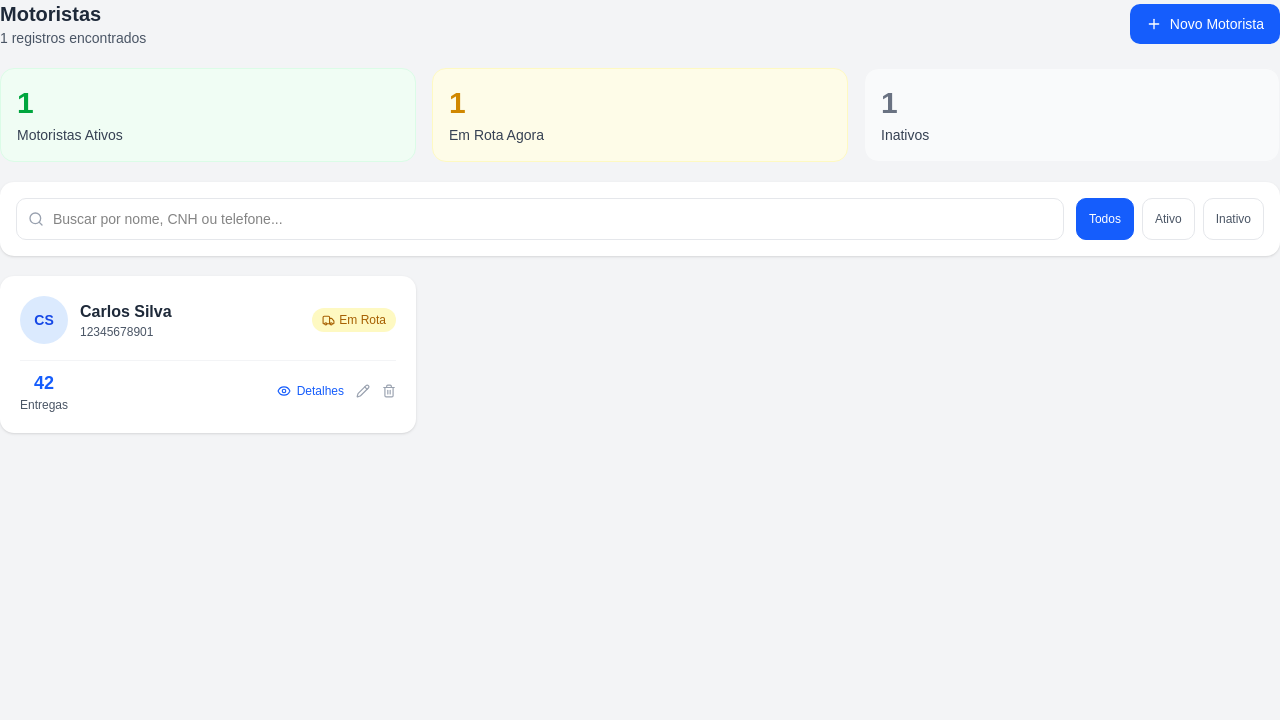
Test: Motoristas › abre o formulário em modo edição ao clicar em editar
expect the text "Carlos Silva" is shown: met, box [80, 300, 172, 324]
Click the button named "Editar Carlos Silva" at (363, 391), box [356, 384, 370, 398]
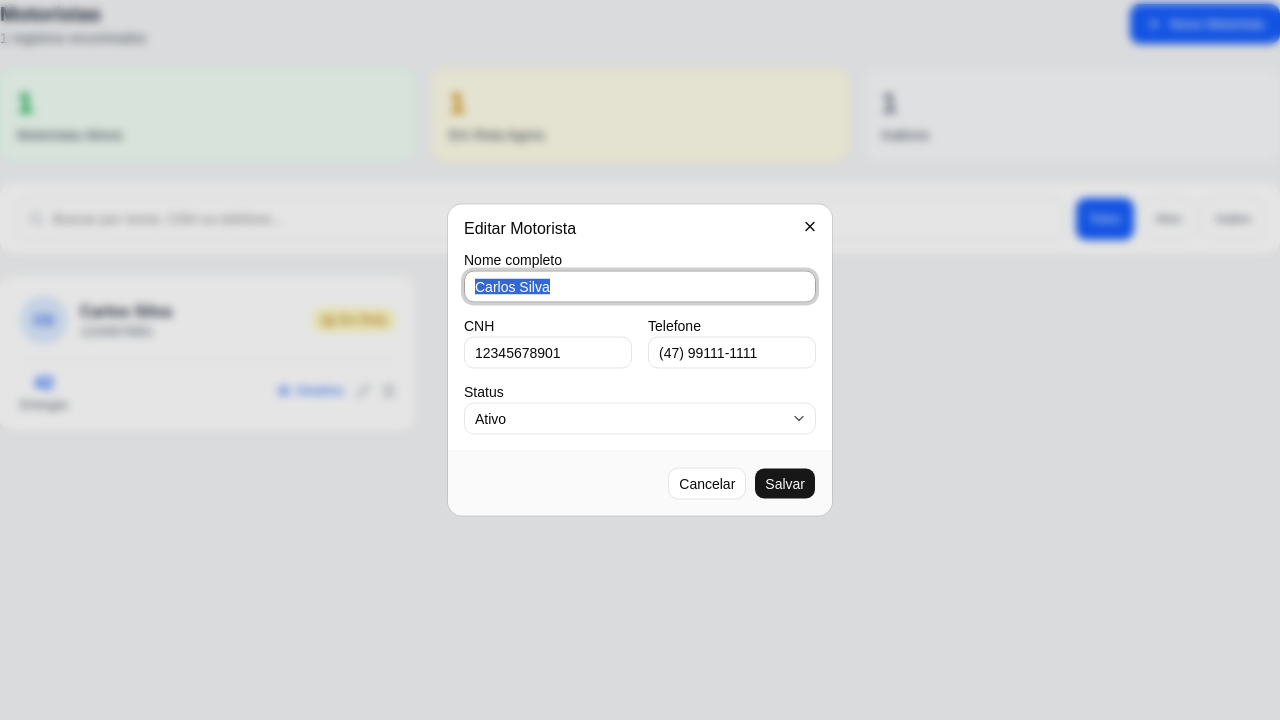
expect the dialog "Editar Motorista" is shown: met, box [448, 204, 832, 516]
expect the field showing "Carlos Silva" is shown: met, box [464, 270, 816, 302]
